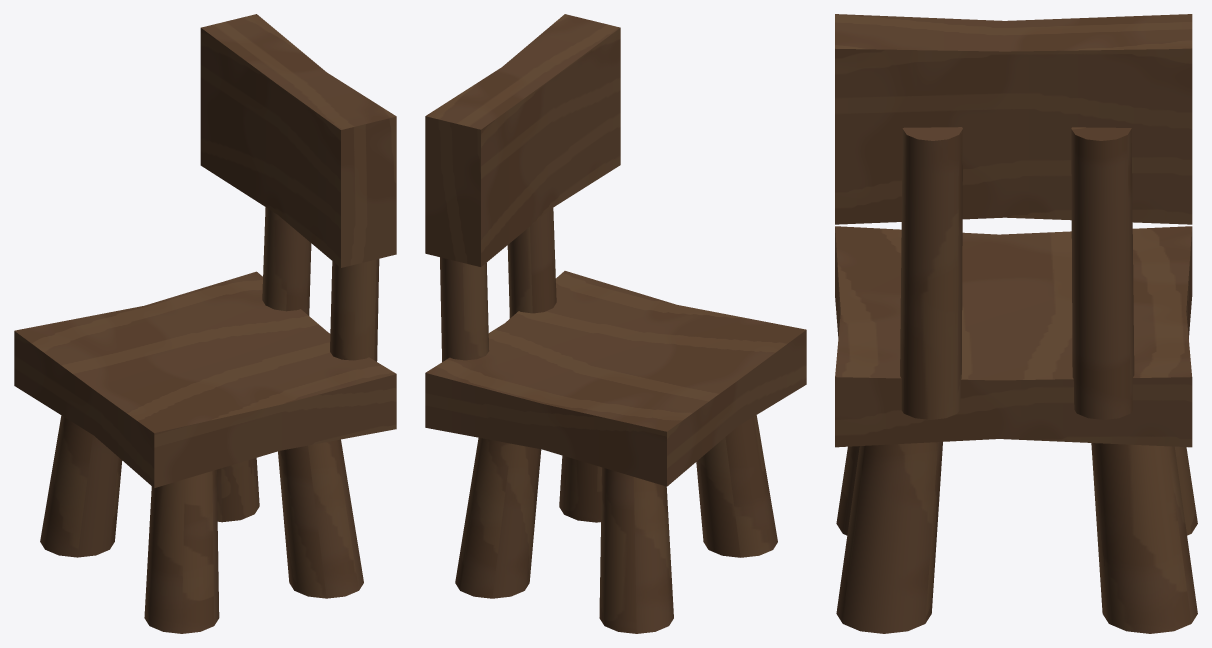
Rendered from MSH_Chair.fbx.
3 renders of one model, left to right at view 1: azimuth 30°, elevation 25°; view 2: azimuth 150°, elevation 25°; view 3: azimuth 270°, elevation 25°, orthographic. The views are drawn at different scales.
Visible parts, largest first — view 1: MSH_Chair; view 2: MSH_Chair; view 3: MSH_Chair.
Part boxes in pixels (x1=…): MSH_Chair: x1=14, y1=14, x2=396, y2=633; MSH_Chair: x1=425, y1=14, x2=806, y2=633; MSH_Chair: x1=835, y1=14, x2=1197, y2=633.
Size of the model in its own units: 71.84 by 122 by 67.46.
